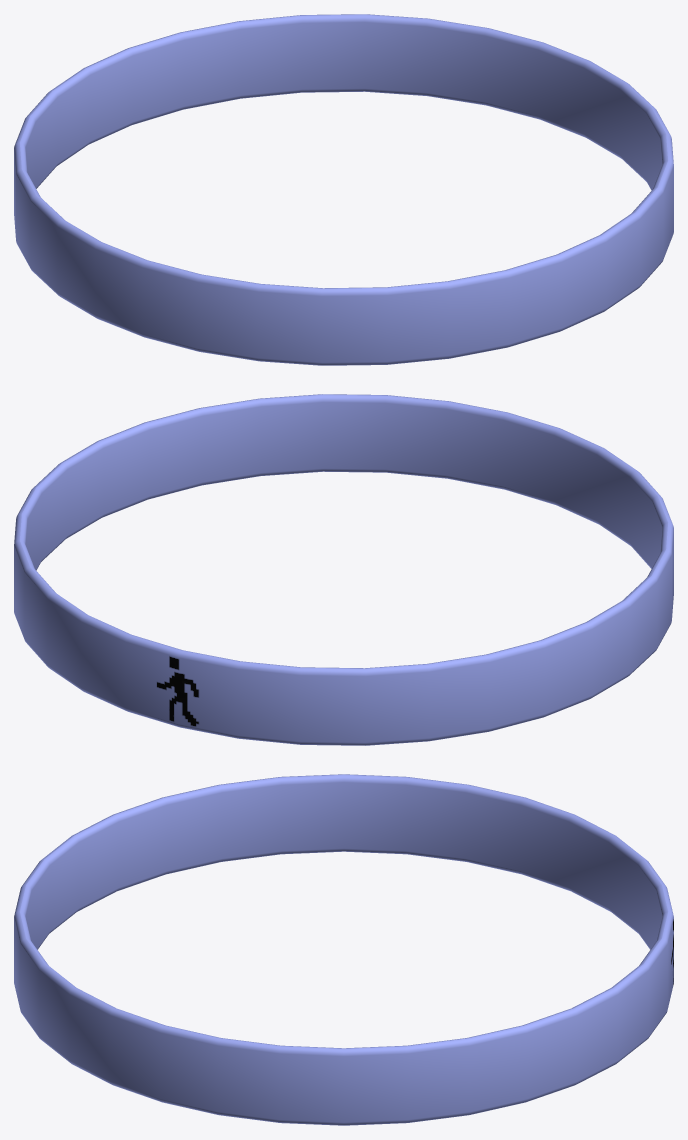
The model's file is hat.fbx.
The picture shows the model from 3 angles, top to bottom: view 1: azimuth 30°, elevation 25°; view 2: azimuth 150°, elevation 25°; view 3: azimuth 270°, elevation 25°; orthographic projection.
Parts seen in each view (by area): view 1: Circle; view 2: Circle; view 3: Circle.
Boxes of the visible parts, x1,y1,x2,y2 form: Circle: (14, 14, 673, 365); Circle: (14, 394, 673, 745); Circle: (14, 774, 673, 1125).
Size of the model in its own units: 127 by 16.18 by 127.
Materials: 1 (1 with a texture image).
